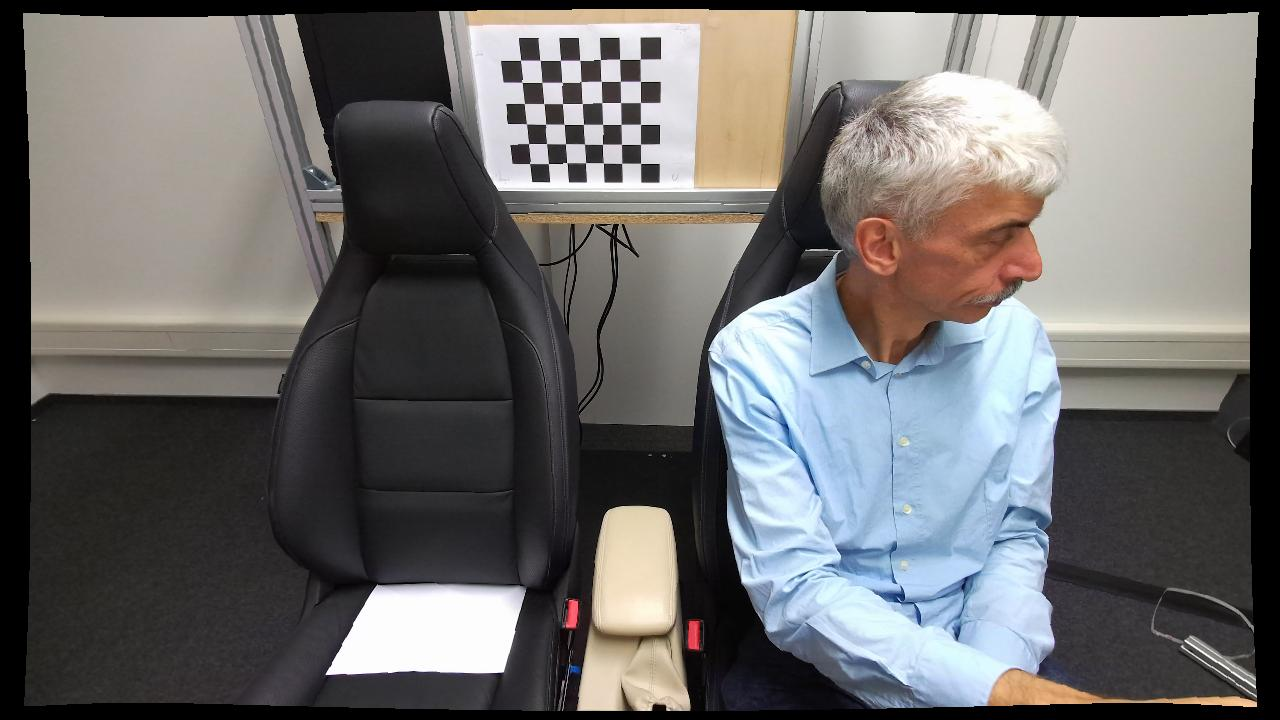Distracted: (705, 61, 1119, 710)
